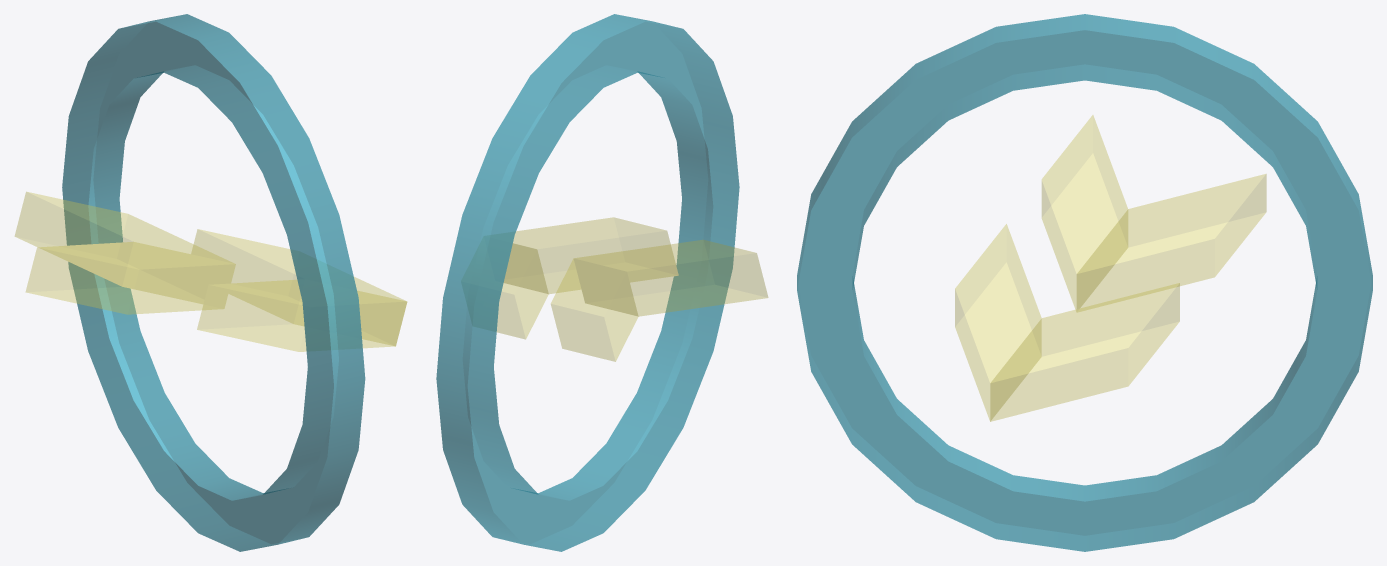
The model's file is Flying checkpoints.fbx.
3 views of the same model, side by side, from view 1: azimuth 30°, elevation 25°; view 2: azimuth 150°, elevation 25°; view 3: azimuth 270°, elevation 25° (orthographic). The views are drawn at different scales.
Parts seen in each view (by area): view 1: pPipe2; view 2: pPipe2; view 3: pPipe2.
Part boxes in pixels (x1,y1,x2,y2): pPipe2: (15, 14, 407, 551); pPipe2: (436, 14, 768, 551); pPipe2: (797, 14, 1372, 551).
Bounding box in the file's own units: 3.67 × 5.18 × 5.18.
